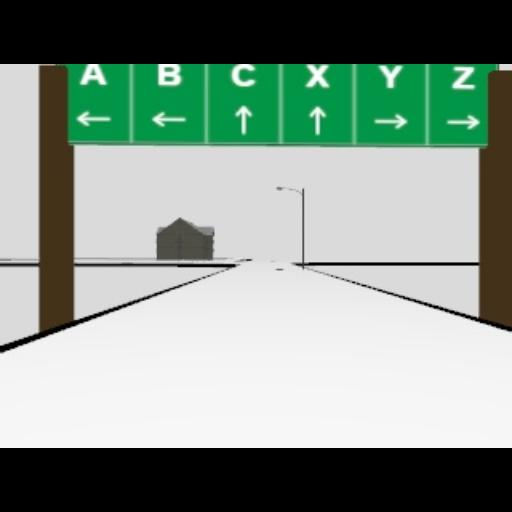A: (76, 64, 110, 86)
B: (156, 64, 184, 88)
C: (230, 64, 256, 88)
Left: (151, 109, 187, 129), (77, 110, 113, 128)
Right: (445, 112, 479, 132), (373, 112, 409, 130)
Straight: (232, 105, 254, 137), (308, 105, 328, 137)
X: (304, 64, 332, 88)
Y: (378, 64, 404, 90)
Z: (450, 65, 476, 91)
